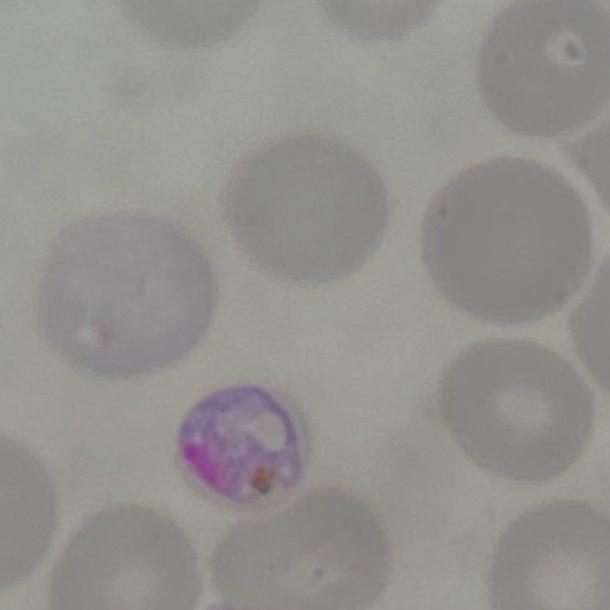Infected: (170, 377, 308, 510)
Uninfected: (40, 214, 218, 378), (427, 156, 592, 323), (227, 134, 386, 280), (213, 482, 391, 610), (437, 337, 588, 484), (475, 0, 610, 131), (53, 501, 196, 610), (487, 497, 605, 610)
